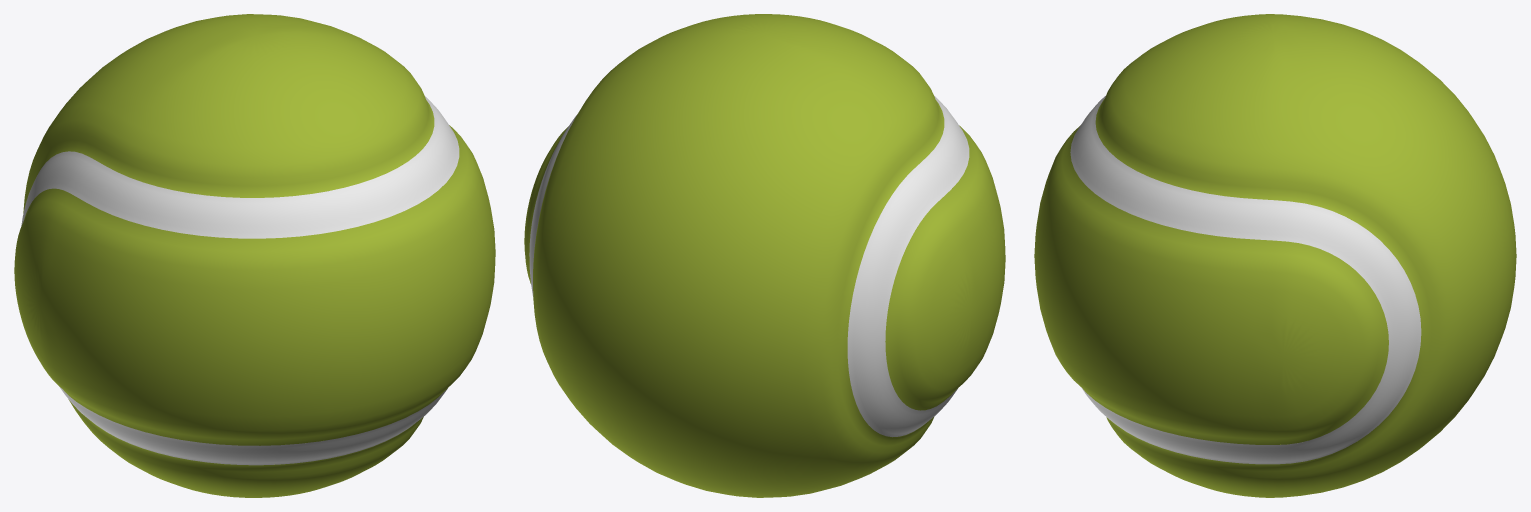
The model's file is tennis-transformed.glb.
3 views of the same model, side by side, from view 1: azimuth 30°, elevation 25°; view 2: azimuth 150°, elevation 25°; view 3: azimuth 270°, elevation 25° (orthographic).
Parts seen in each view (by area): view 1: tennisV2; view 2: tennisV2; view 3: tennisV2.
Part boxes in pixels (box(x1,y1,x2,y2)): tennisV2: box(14, 14, 495, 497); tennisV2: box(524, 14, 1005, 497); tennisV2: box(1034, 14, 1516, 497).
Size of the model in its own units: 0.1651 by 0.1652 by 0.1637.
